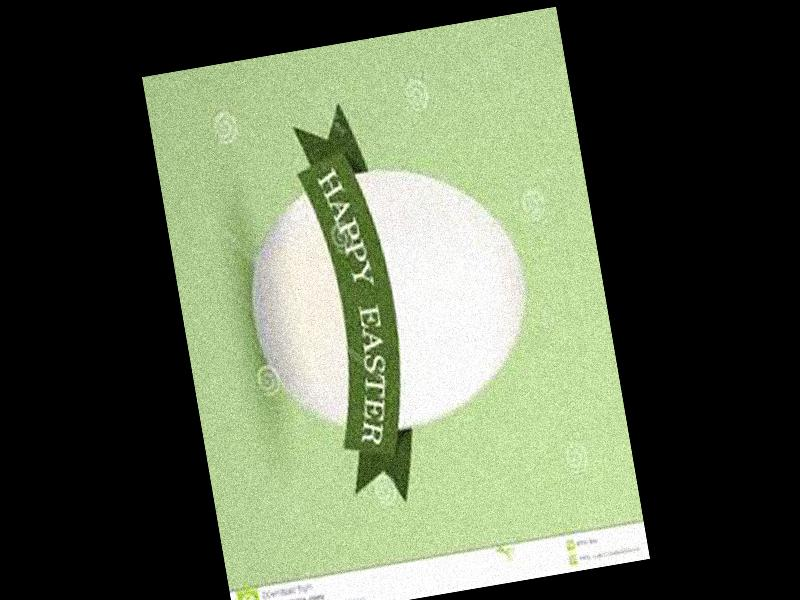Eggs: (234, 152, 545, 451)
